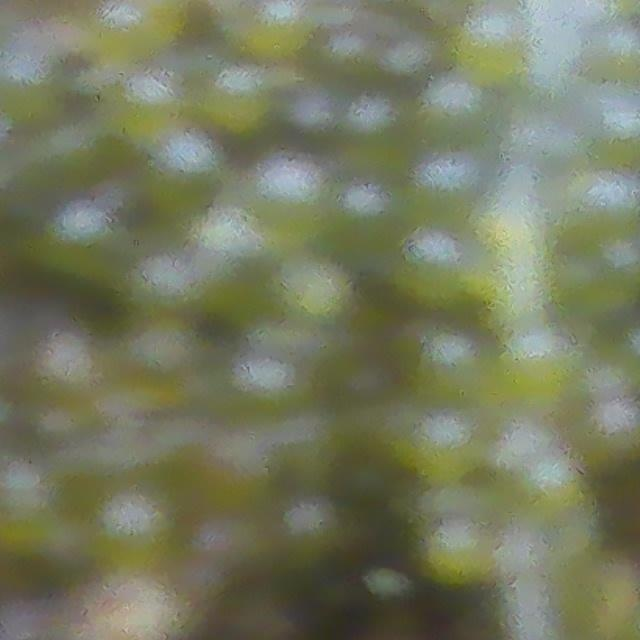SeaGrape: (396, 227, 481, 313), (500, 322, 582, 406), (252, 153, 330, 231), (279, 252, 355, 327), (424, 517, 497, 587), (460, 0, 533, 67), (422, 72, 491, 142), (413, 145, 485, 209), (246, 0, 316, 63), (156, 126, 218, 184)
